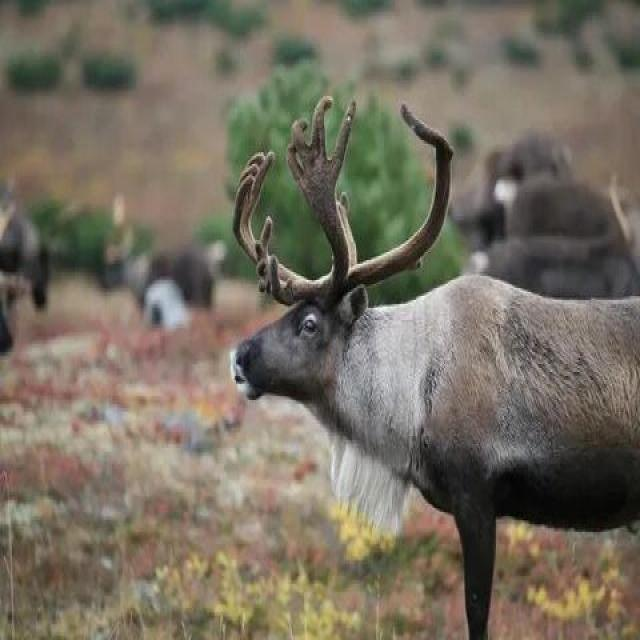deer: (210, 55, 638, 565)
